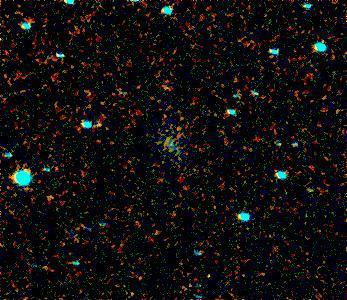star: (194, 263, 224, 293)
